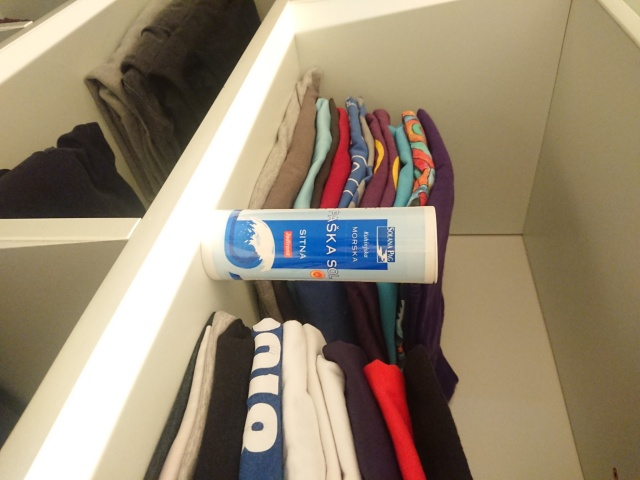Solana Pag Fine Sea Salt 250g: (197, 203, 440, 286)
